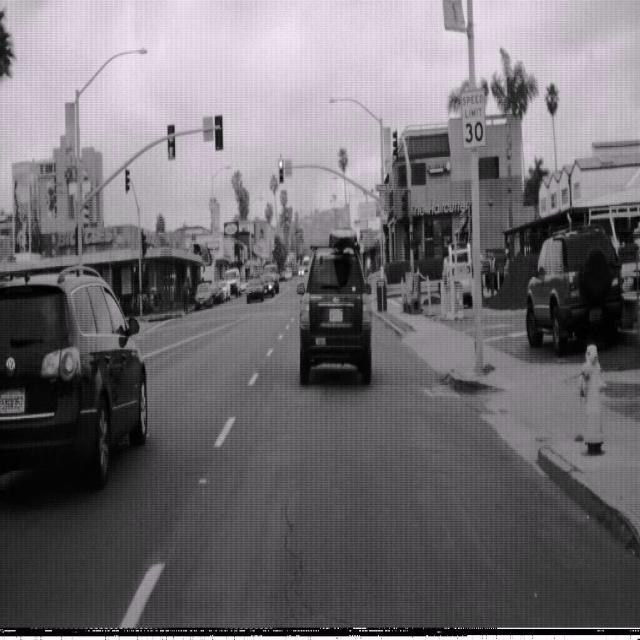speedLimit30: (461, 87, 487, 150)
